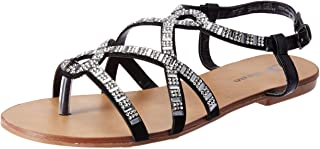shoes: (1, 1, 320, 149)
